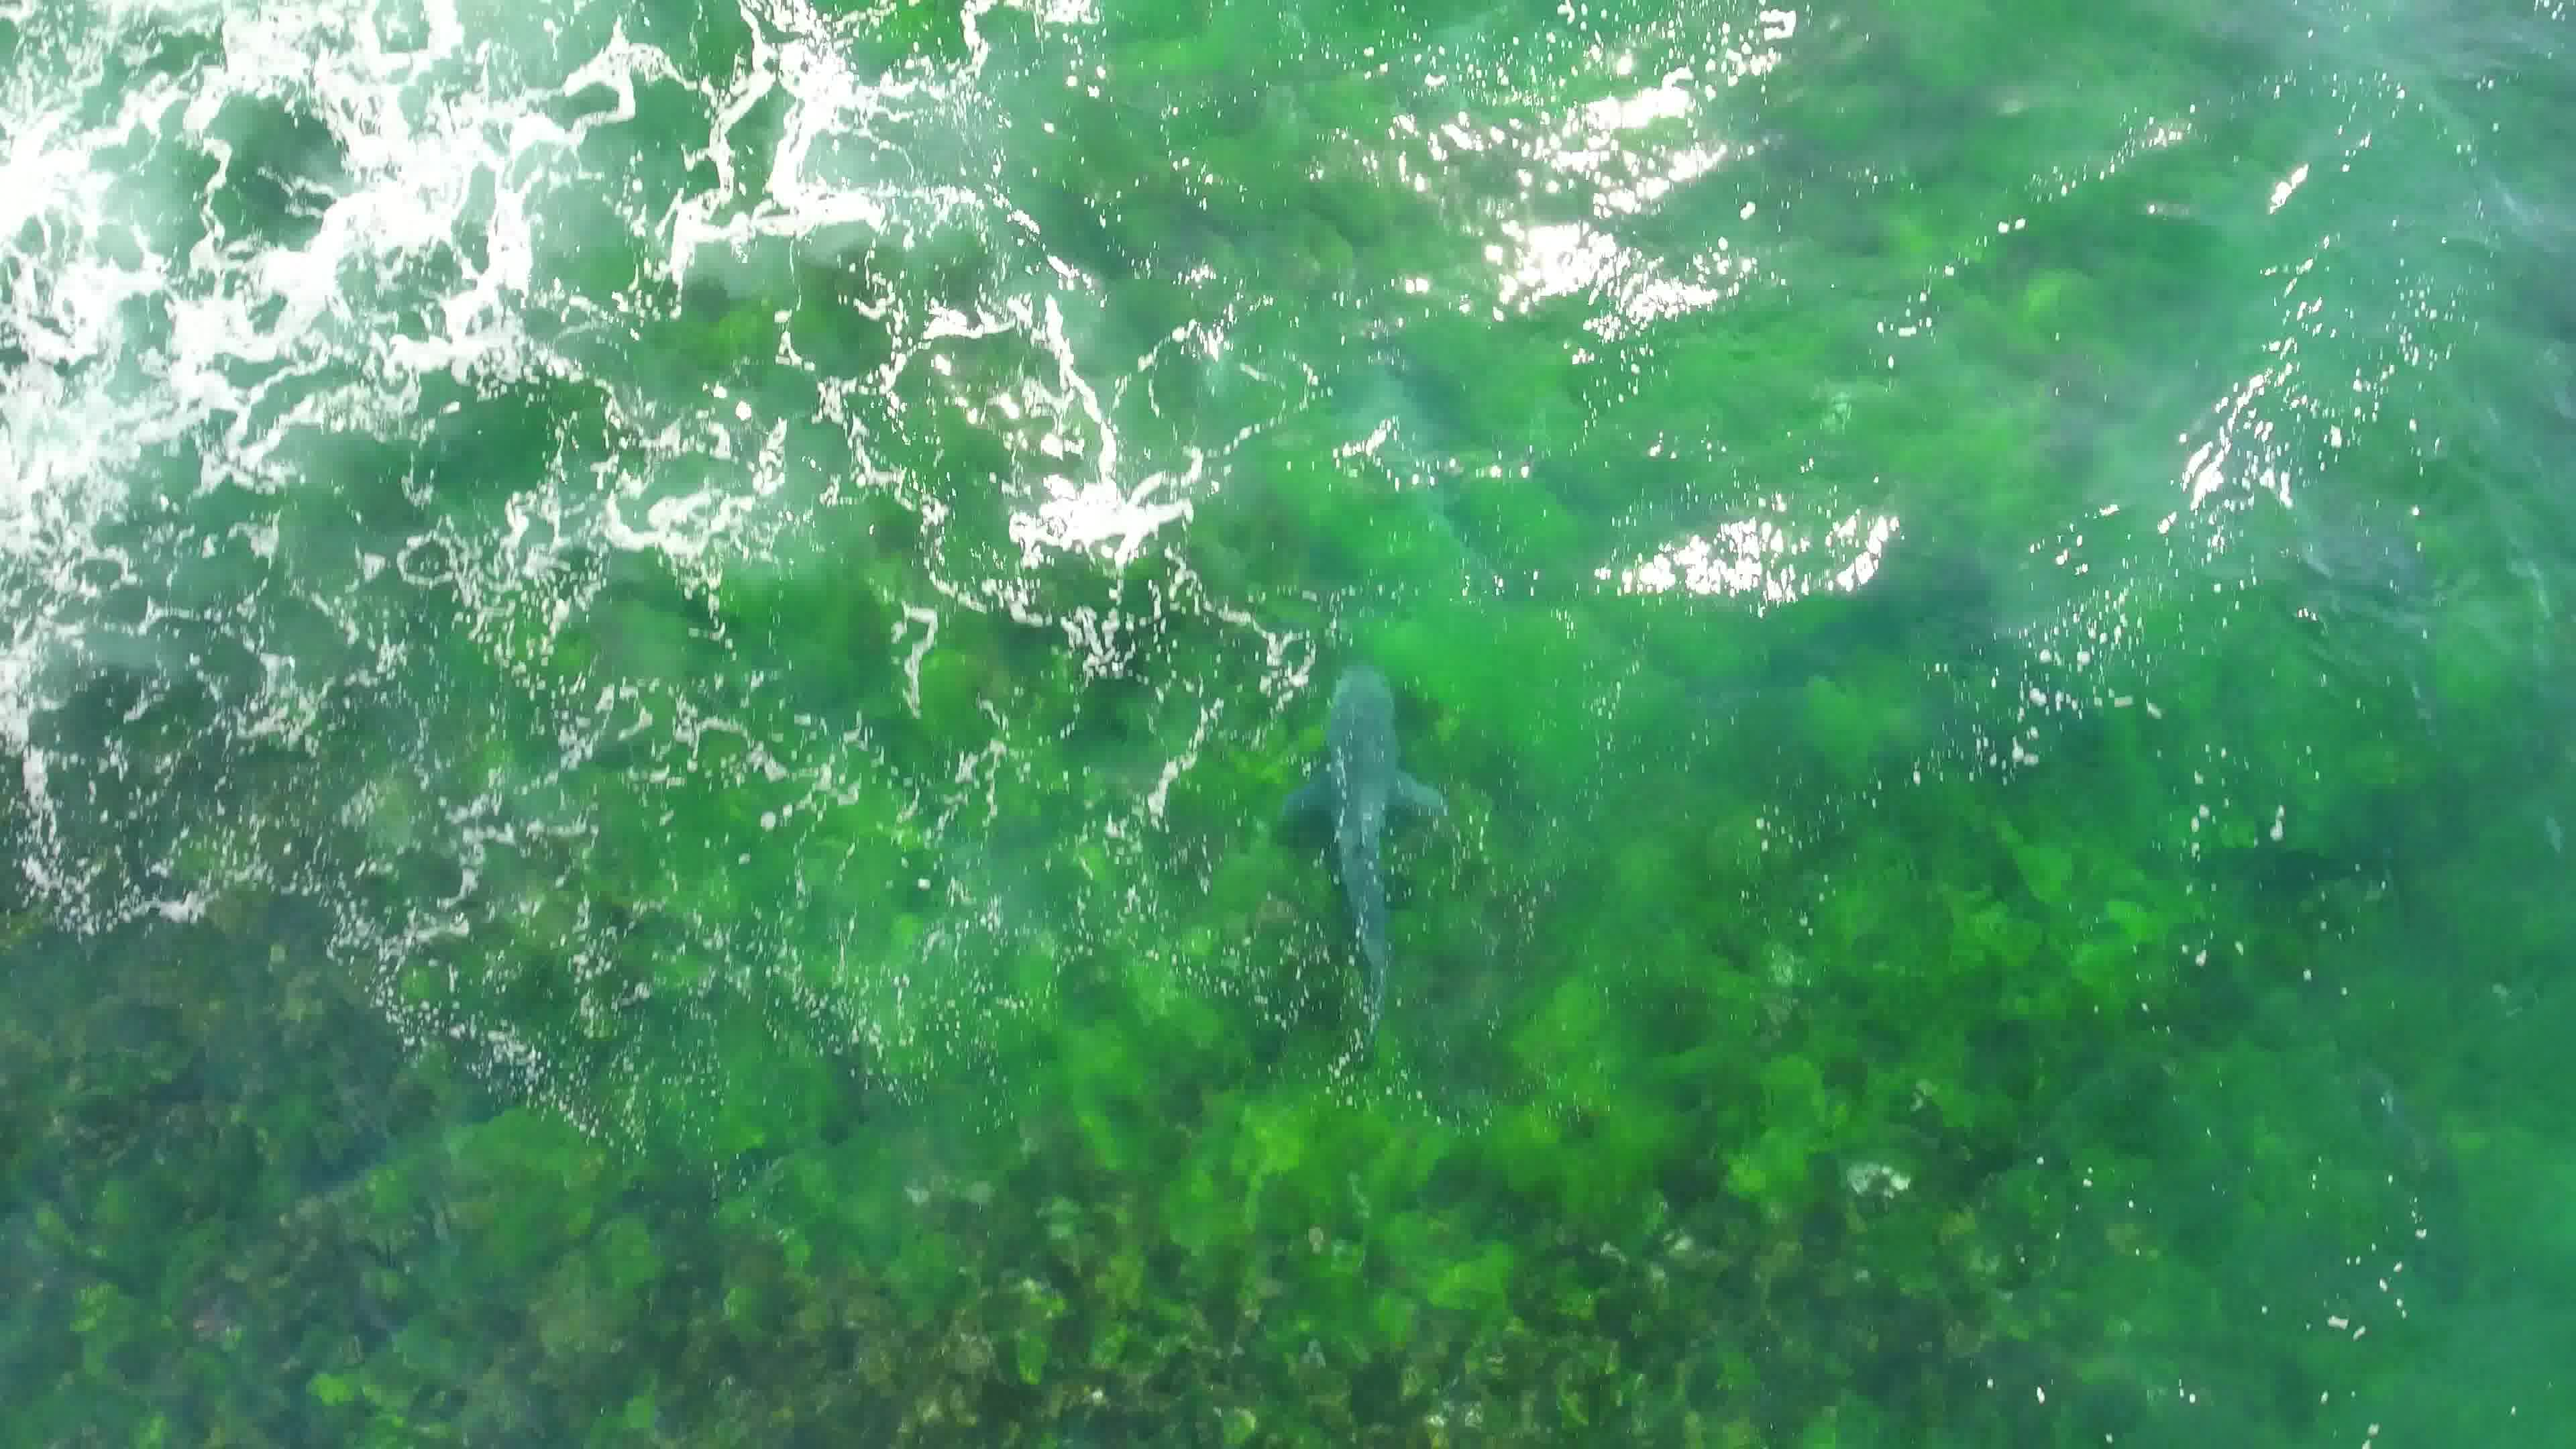shark: (1265, 658, 1451, 1046)
